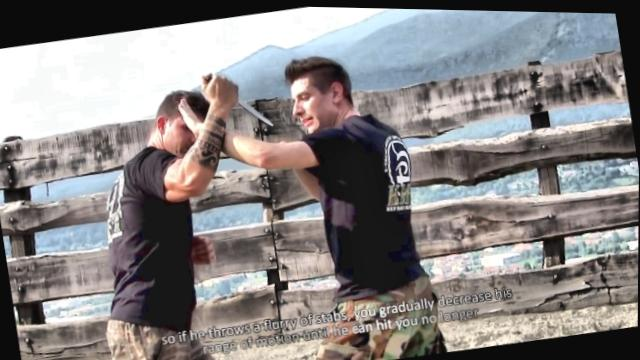knife: (196, 59, 278, 137)
